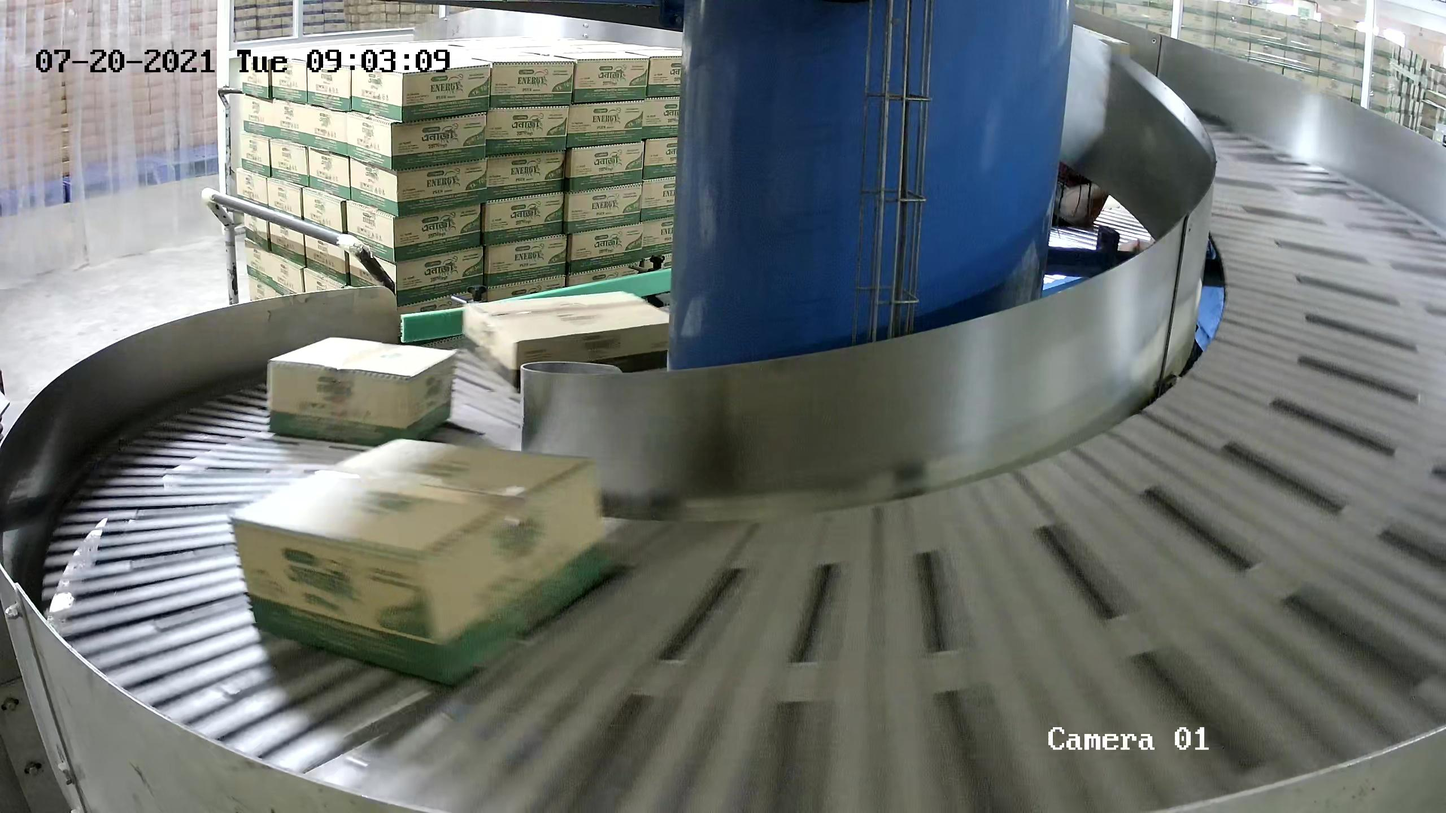Box: (225, 433, 608, 689), (461, 289, 672, 395), (265, 335, 457, 448)
